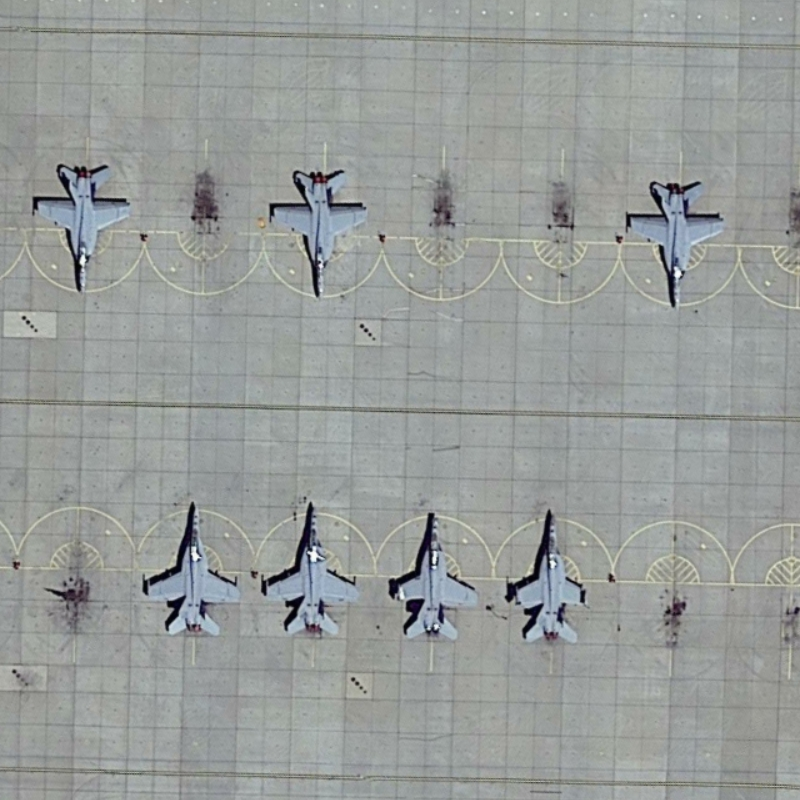A16: (23, 155, 139, 301), (255, 493, 363, 640), (259, 162, 371, 302), (621, 174, 730, 317), (141, 494, 247, 641), (382, 504, 481, 647), (504, 496, 592, 648)
